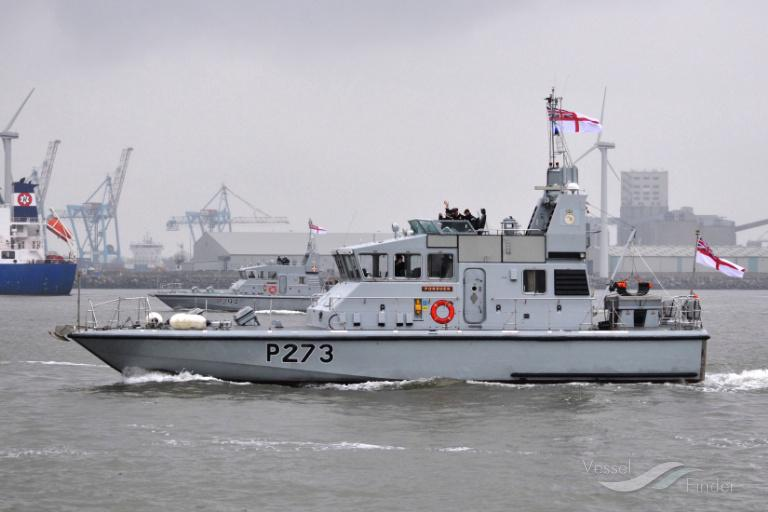OCR: (260, 338, 338, 368)
